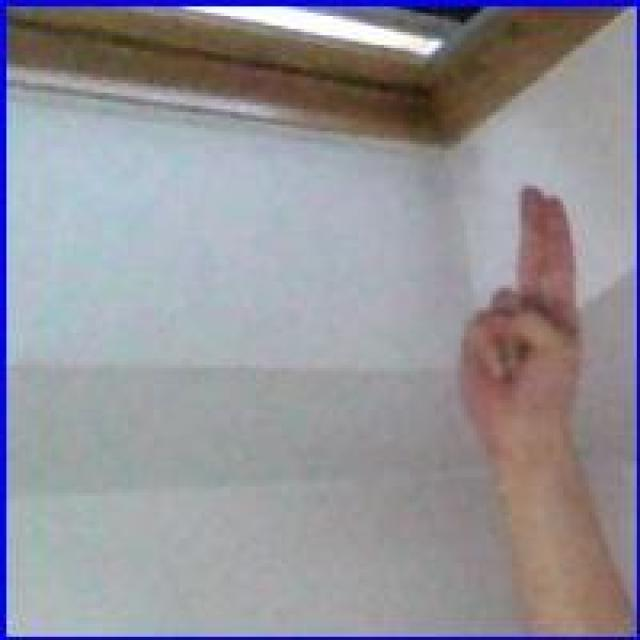U: (449, 165, 596, 478)
